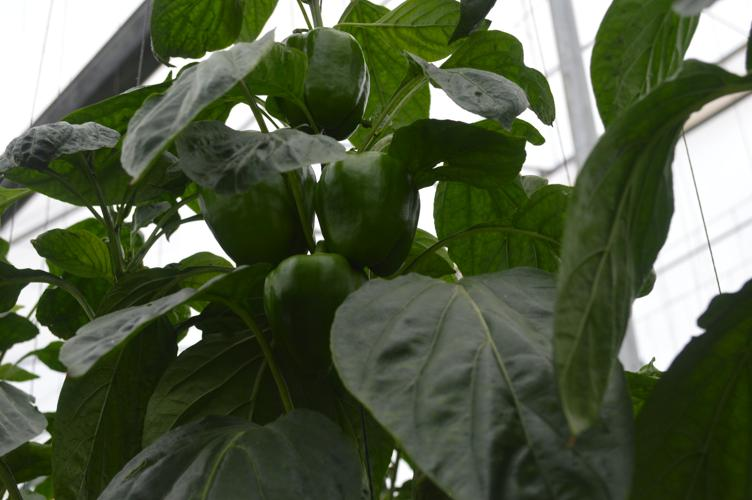BellPepper: (311, 144, 443, 280), (251, 251, 365, 394), (204, 132, 314, 267), (268, 20, 377, 140)
